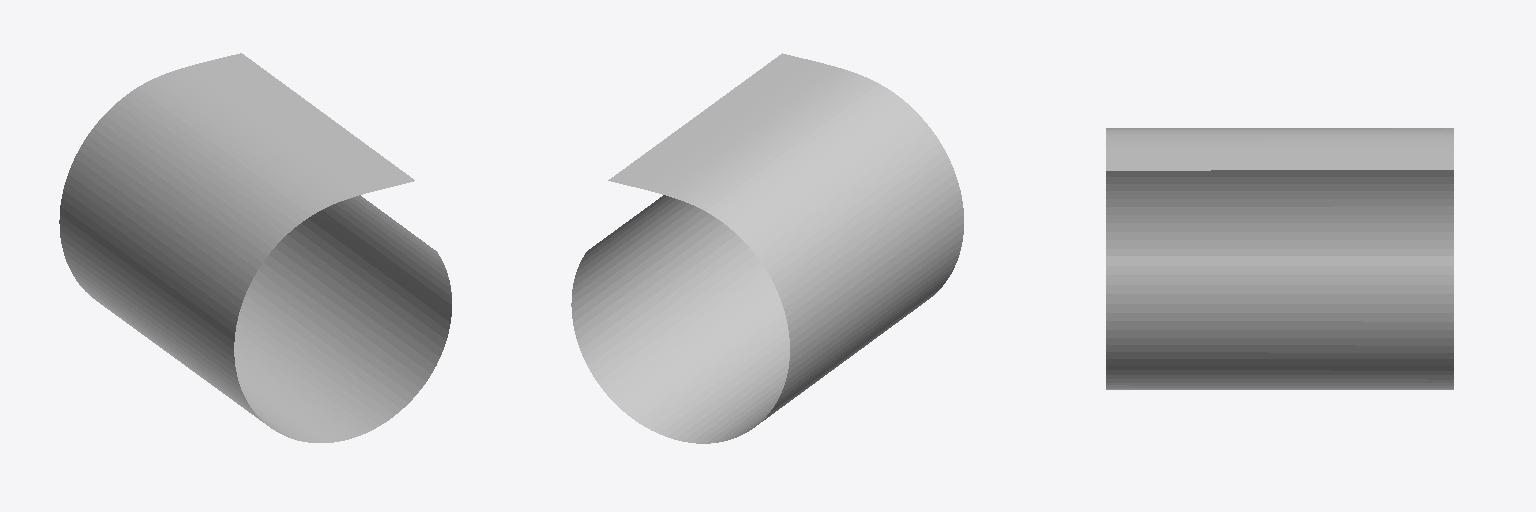
Rendered from CurvePaper_000012.obj.
3 renders of one model, left to right at view 1: azimuth 30°, elevation 25°; view 2: azimuth 150°, elevation 25°; view 3: azimuth 270°, elevation 25°, orthographic.
Visible parts, largest first — view 1: Plane; view 2: Plane; view 3: Plane.
Boxes of the visible parts, <box> form: Plane: <box>59,53,451,442</box>; Plane: <box>571,53,963,443</box>; Plane: <box>1106,128,1453,389</box>.
Size of the model in its own units: 1.64 by 1.74 by 2.26.